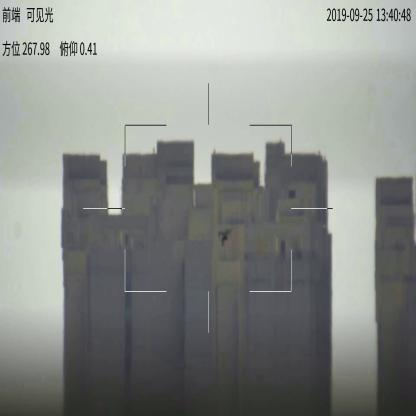uav: (216, 226, 234, 247)
